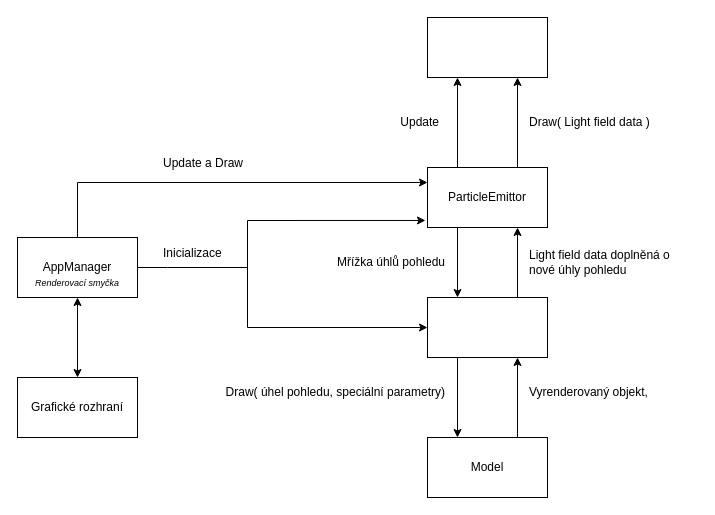
Image size: 715x515. Some labels were removed from this diagram. The shapes that lost their labels are listed below. From the top down, each one's centre as x and y in pixels, then its label:
At point (487, 47): "Particles".
At point (487, 327): "Generátor".
